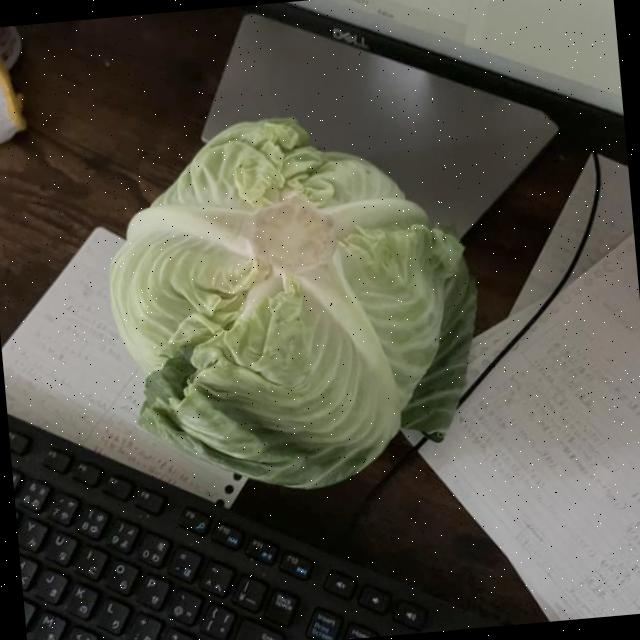cabbage: (93, 96, 500, 509)
